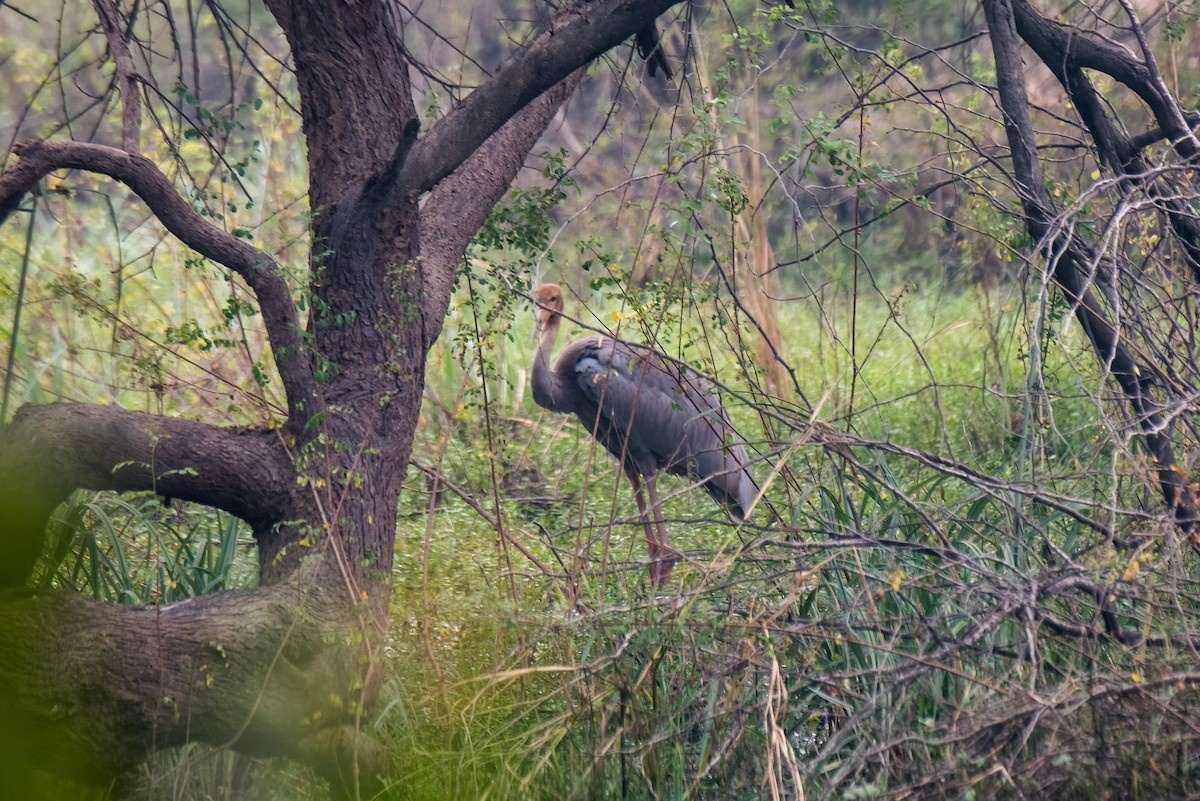crane: (524, 278, 764, 571)
